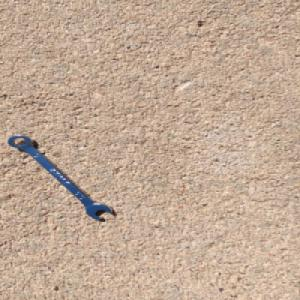Wrench: (7, 133, 115, 221)
